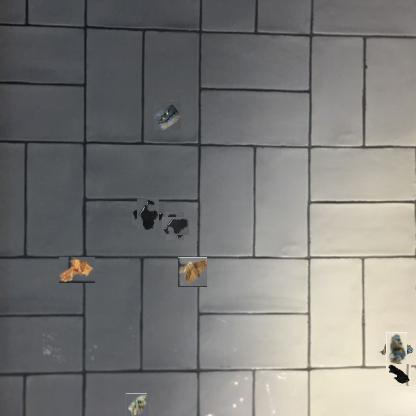dirty: (59, 257, 95, 283), (178, 257, 207, 287), (382, 336, 411, 365), (153, 101, 181, 130), (386, 364, 410, 388), (125, 393, 148, 416)
liquid: (134, 200, 162, 228), (164, 215, 186, 237)
